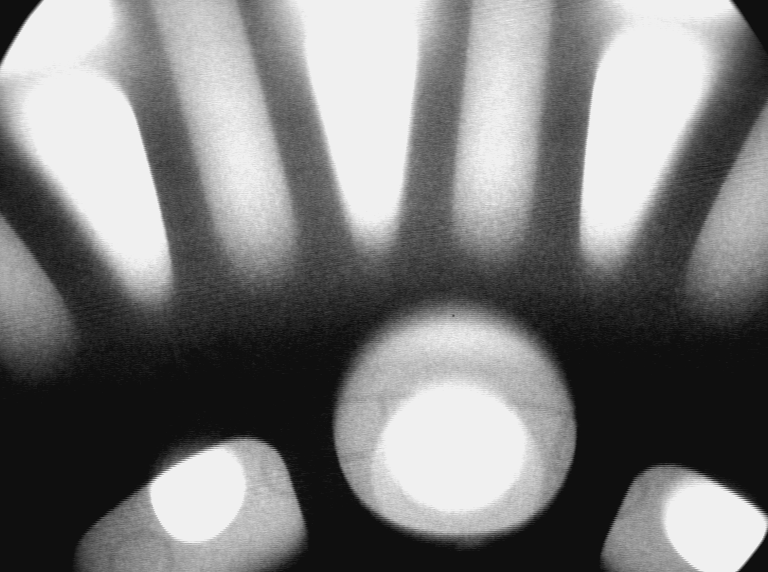defect: (452, 527, 491, 552)
